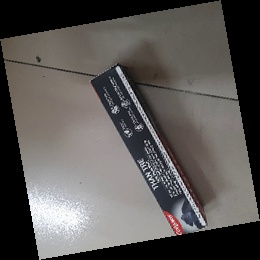Colgate Than: (90, 63, 210, 236)
